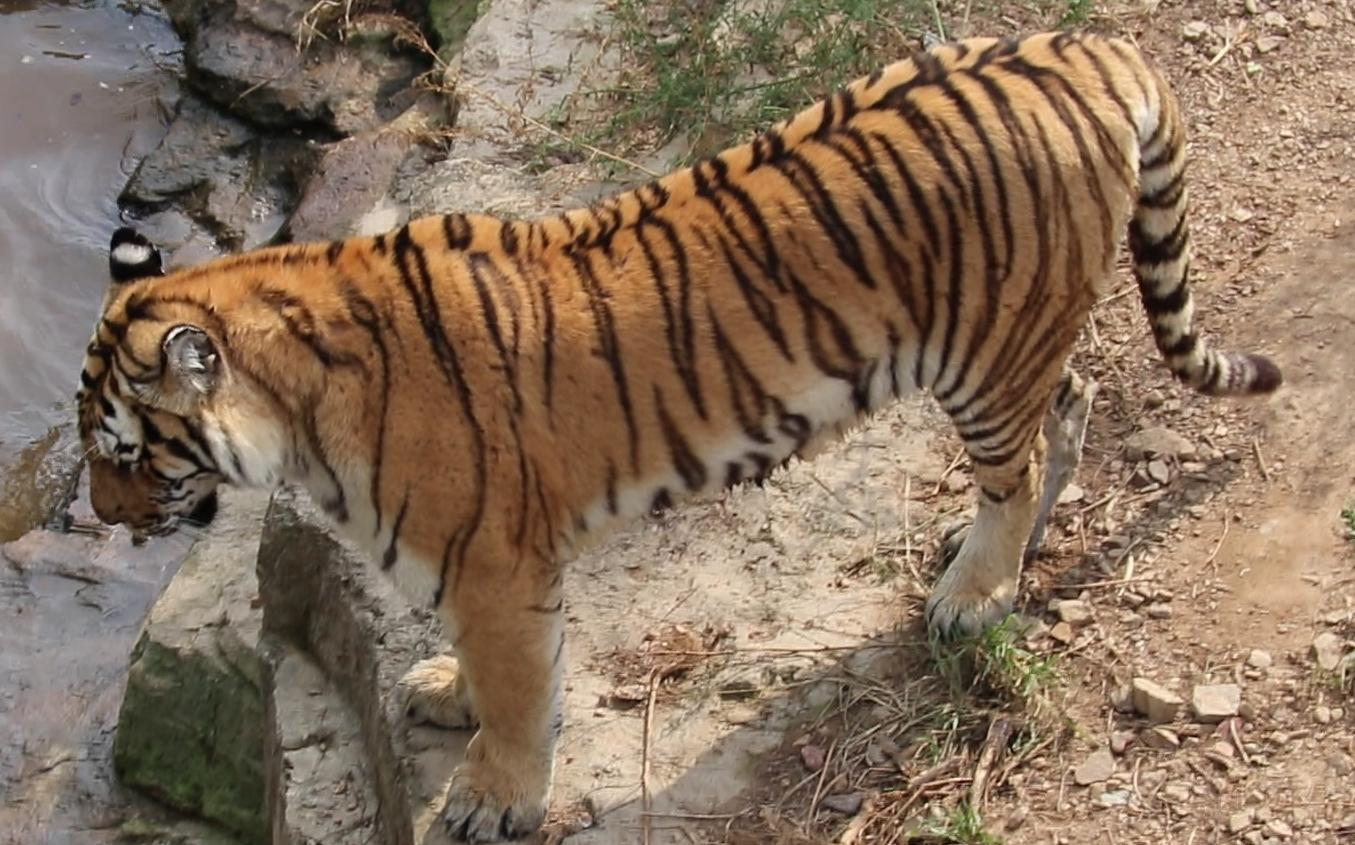tiger: (77, 32, 1281, 841)
